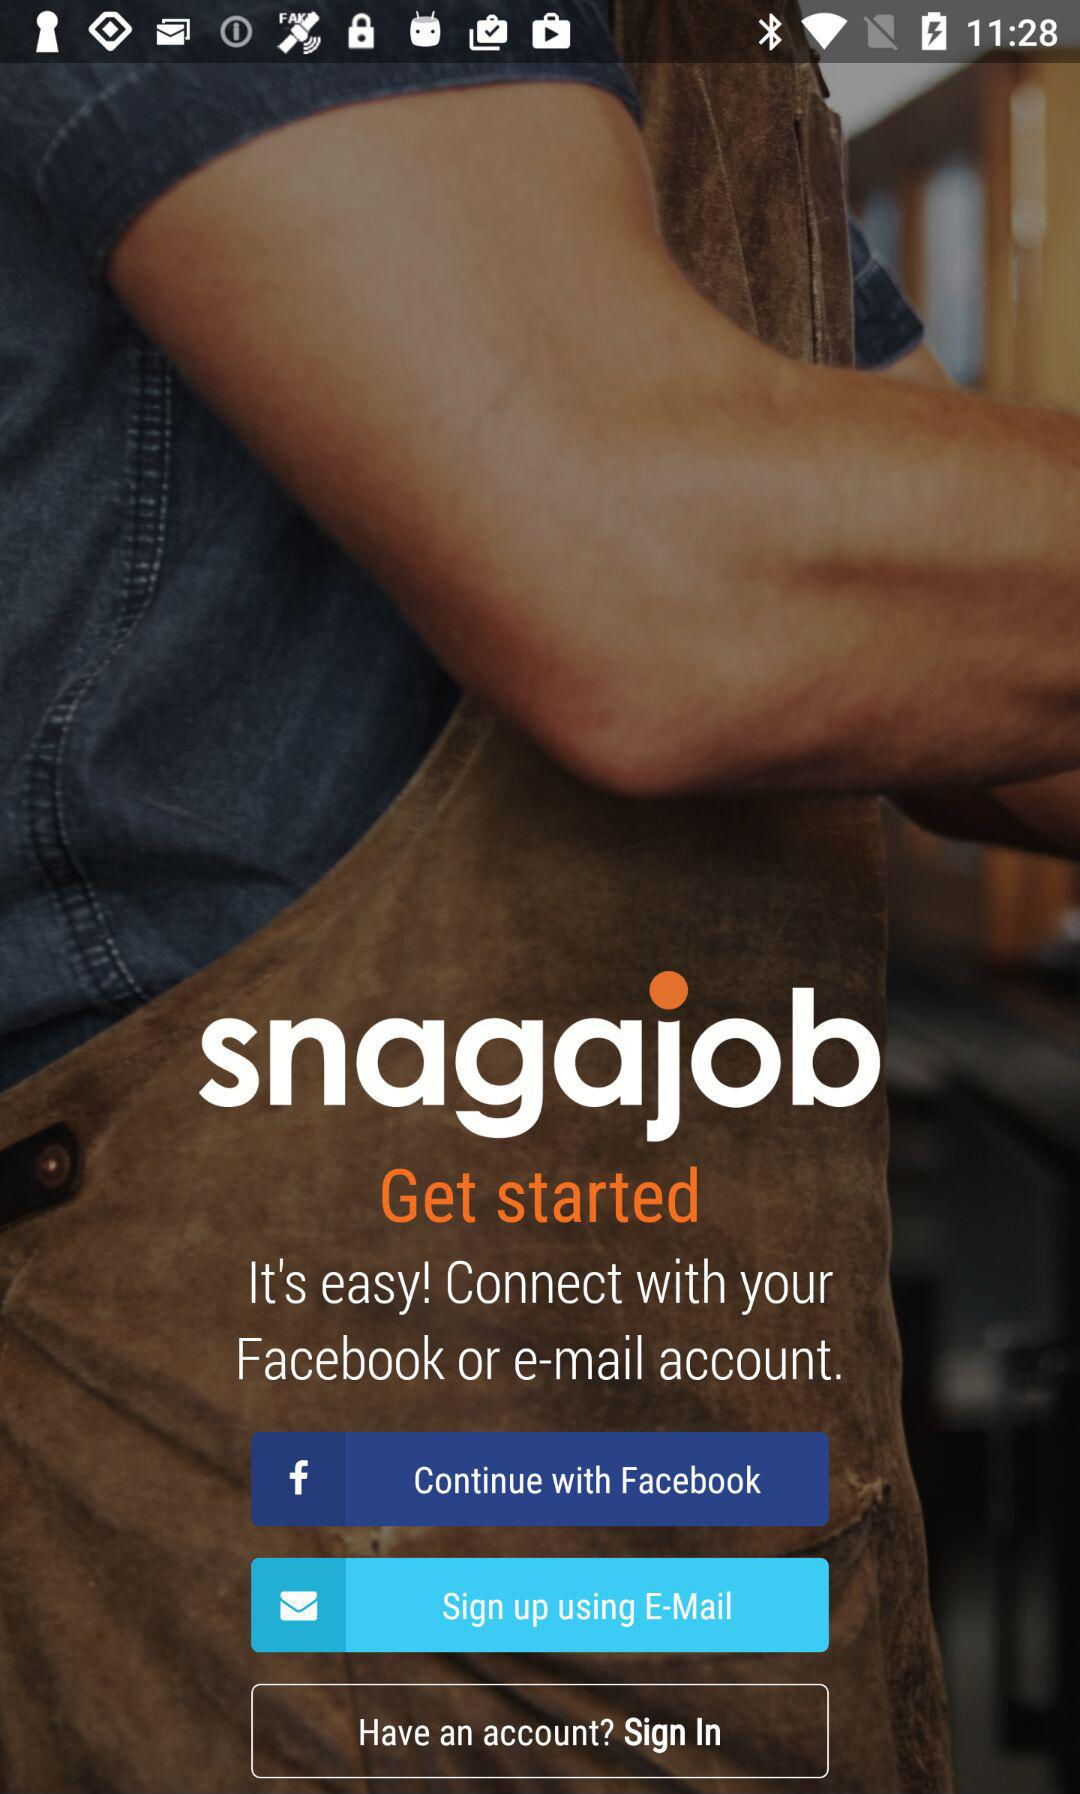BackgroundImage: (1, 64, 1080, 1794)
Image: (200, 970, 883, 1144)
Text: (236, 1257, 846, 1387), (382, 1166, 701, 1229)
TextButton: (251, 1683, 830, 1780), (251, 1558, 830, 1653), (251, 1431, 829, 1526)
UpperTaskBar: (1, 1, 1080, 64)
